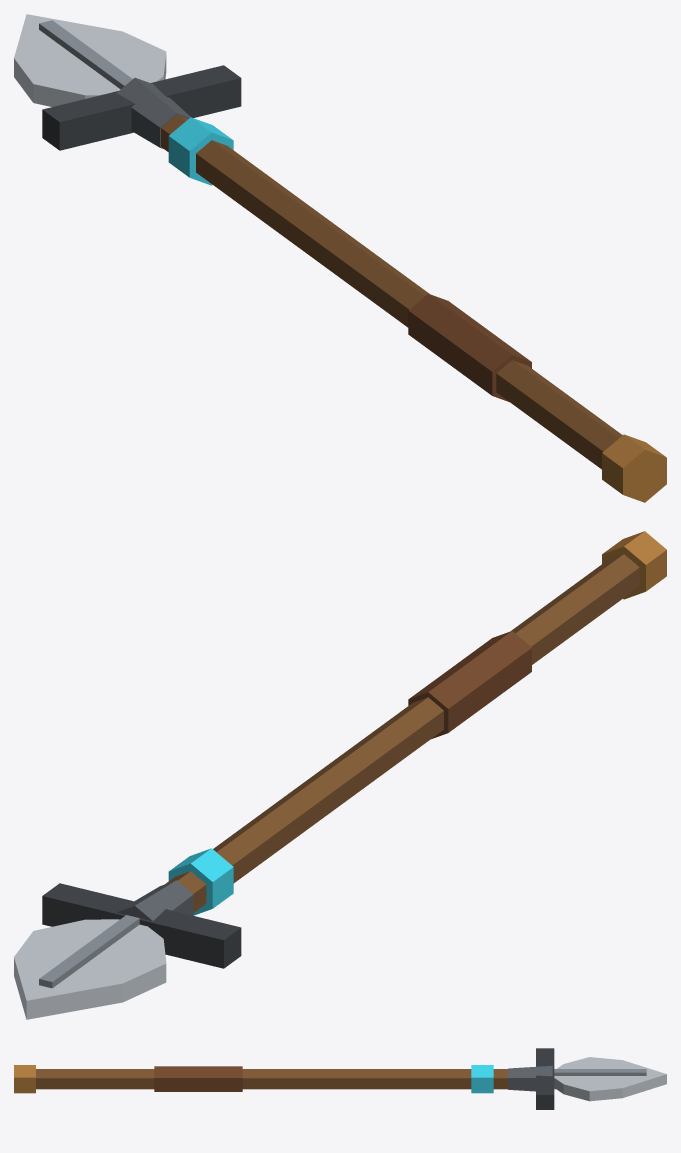
Rendered from WP_HuntingSpear.fbx.
The picture shows the model from 3 angles, top to bottom: view 1: azimuth 30°, elevation 25°; view 2: azimuth 150°, elevation 25°; view 3: azimuth 270°, elevation 25°; orthographic projection. The views are drawn at different scales.
Visible parts, largest first — view 1: WP_HuntingSpear; view 2: WP_HuntingSpear; view 3: WP_HuntingSpear.
Part boxes in pixels (left/top/right/bottom): WP_HuntingSpear: left=14, top=14, right=666, bottom=502; WP_HuntingSpear: left=14, top=531, right=666, bottom=1019; WP_HuntingSpear: left=14, top=1048, right=666, bottom=1109.
Bounding box in the file's own units: 0.3 × 1.77 × 0.212.
